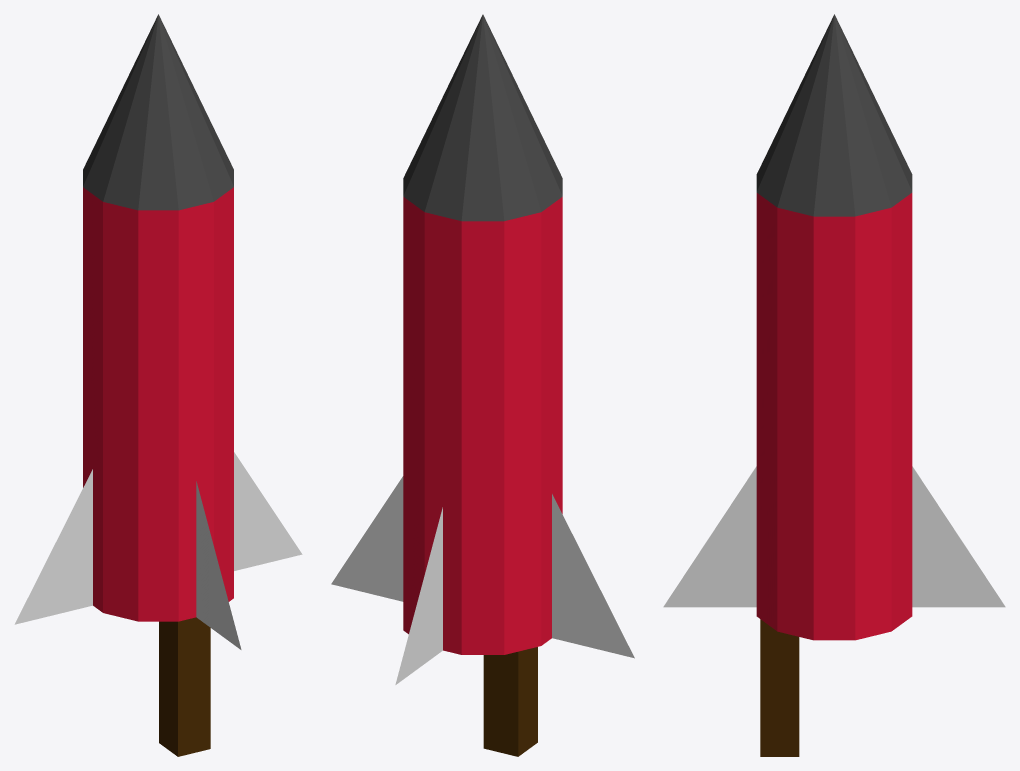
The model's file is tall_bomb.glb.
The picture shows the model from 3 angles, left to right: view 1: azimuth 30°, elevation 25°; view 2: azimuth 150°, elevation 25°; view 3: azimuth 270°, elevation 25°; orthographic projection. The views are drawn at different scales.
Parts seen in each view (by area): view 1: base, top, fin, stand; view 2: base, top, fin, stand; view 3: base, top, fin, stand.
Part boxes in pixels (x1=…): base: x1=83, y1=187, x2=233, y2=621; top: x1=83, y1=14, x2=233, y2=210; fin: x1=14, y1=452, x2=302, y2=649; stand: x1=159, y1=617, x2=210, y2=756; base: x1=403, y1=197, x2=562, y2=654; top: x1=403, y1=14, x2=562, y2=221; fin: x1=331, y1=476, x2=634, y2=684; stand: x1=483, y1=647, x2=537, y2=756; base: x1=756, y1=193, x2=912, y2=640; top: x1=756, y1=14, x2=912, y2=216; fin: x1=663, y1=466, x2=1005, y2=607; stand: x1=760, y1=619, x2=799, y2=756.
Bounding box in the file's own units: 0.275 × 0.65 × 0.275.
Materials: 4 (4 with a texture image).
